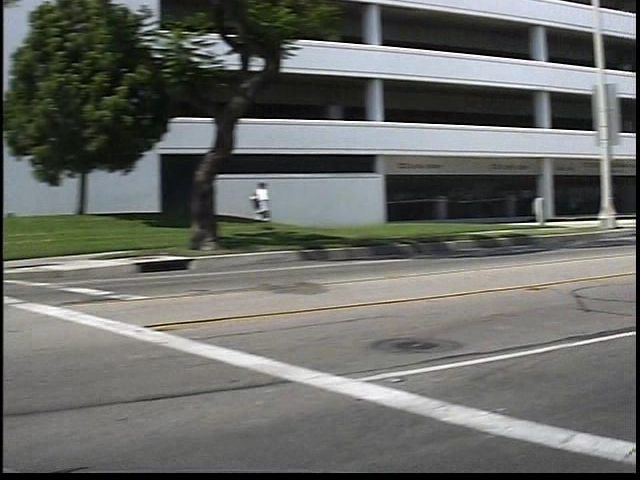person: (267, 177, 295, 239)
